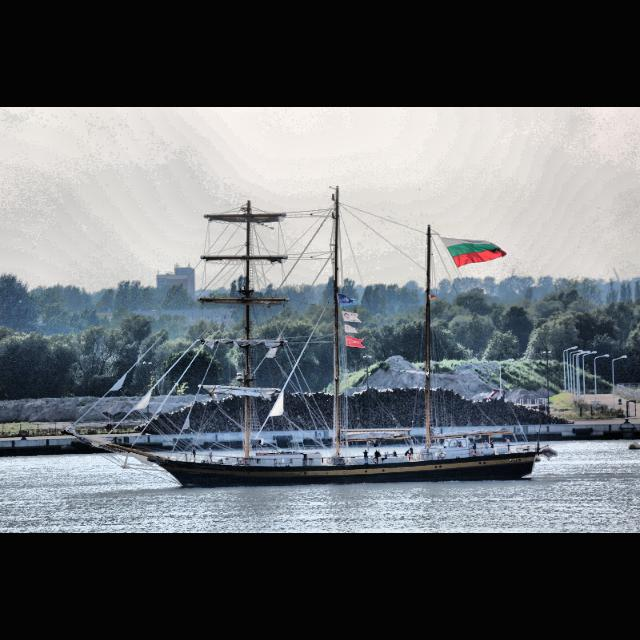sailing_vessel: (59, 184, 558, 488)
